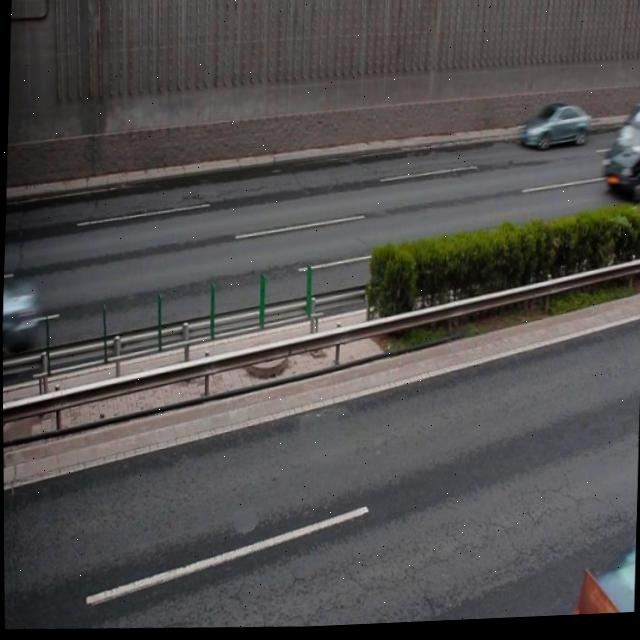car: (517, 102, 589, 152)
truck: (599, 106, 640, 204)
